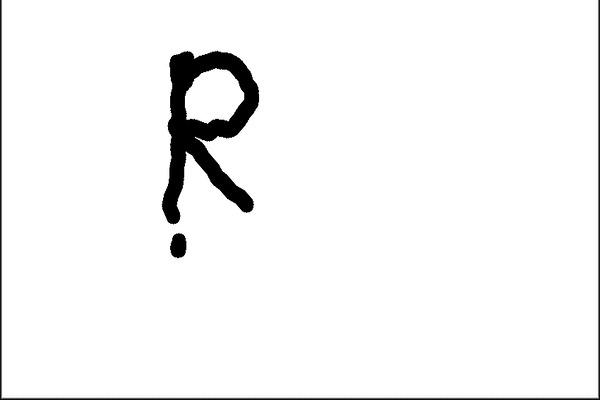R: (145, 39, 271, 230)
